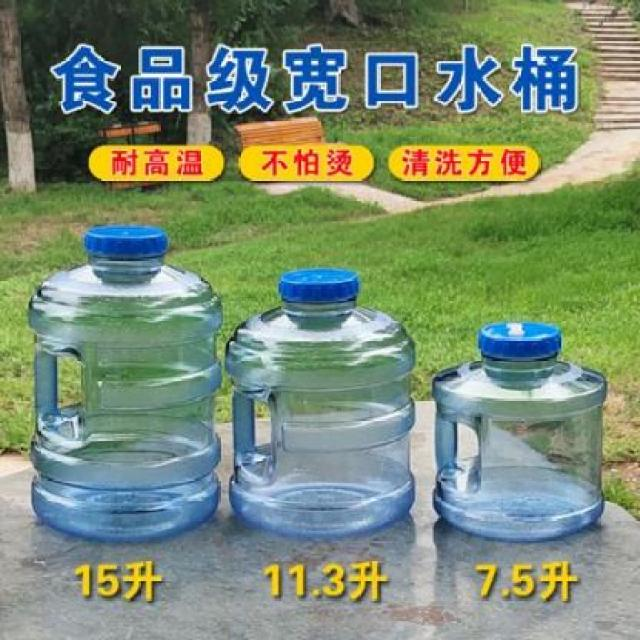coolerbottle: (24, 221, 226, 547), (226, 266, 426, 543), (425, 318, 612, 544)
